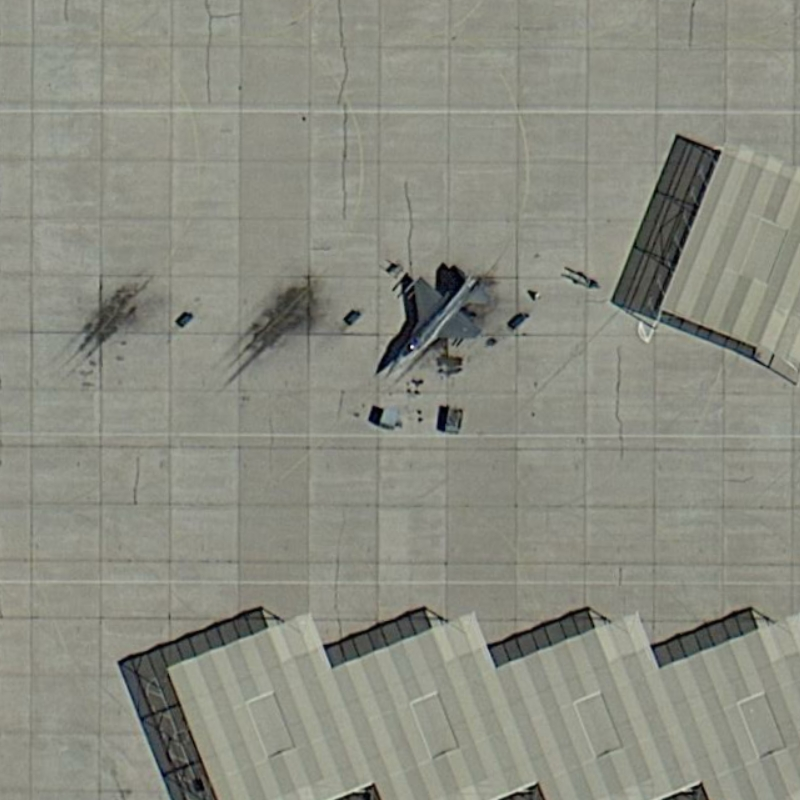A5: (377, 261, 500, 383)
